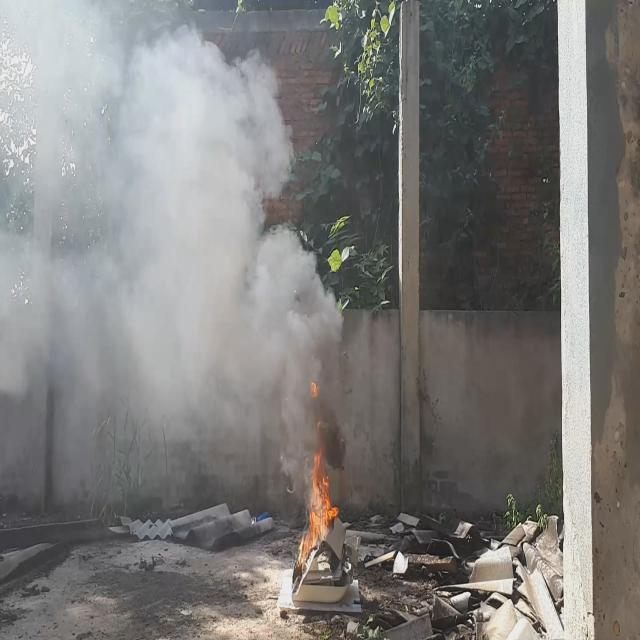Fire: (296, 448, 341, 574)
Smoke: (0, 0, 348, 498)
